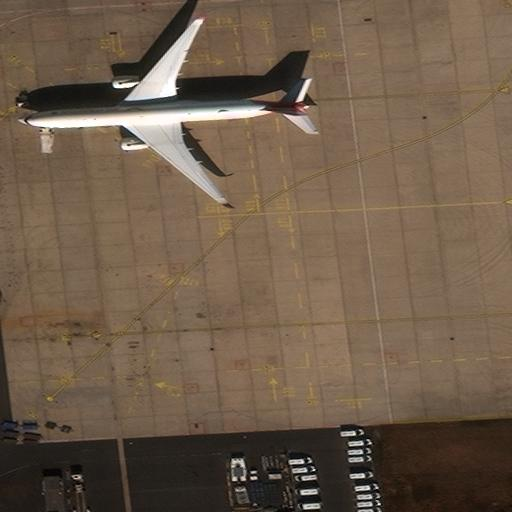Large Civil Transport: (18, 17, 309, 207)
